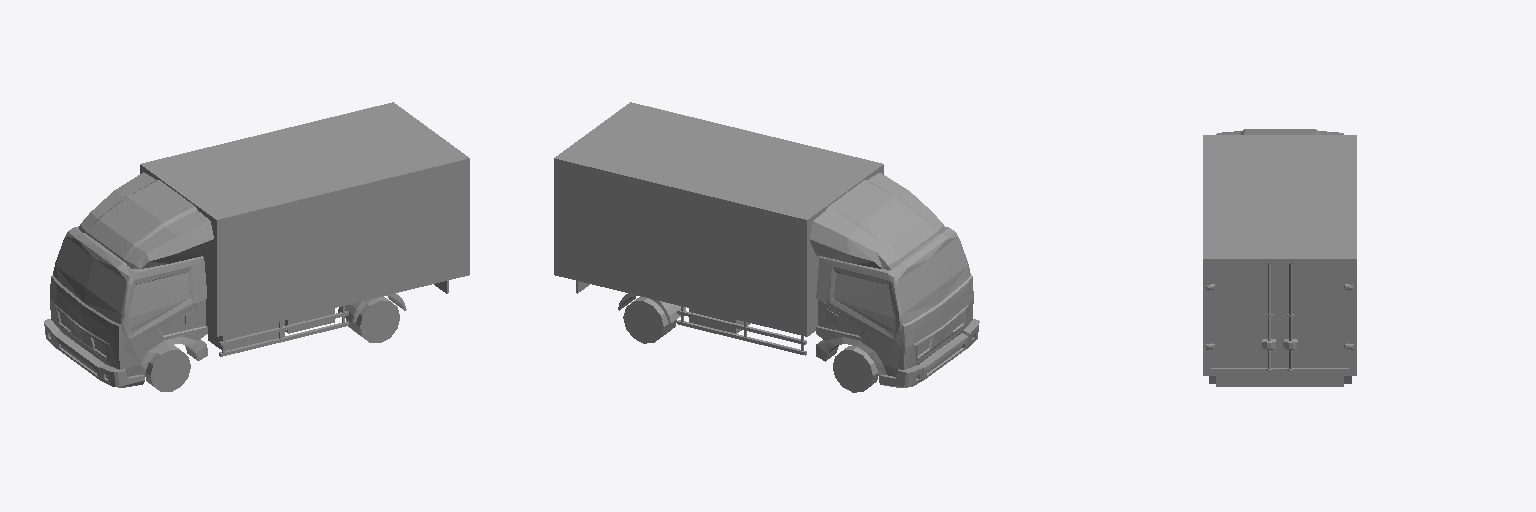
The model's file is Truck.obj.
3 views of the same model, side by side, from view 1: azimuth 30°, elevation 25°; view 2: azimuth 150°, elevation 25°; view 3: azimuth 270°, elevation 25° (orthographic).
Visible parts, largest first — view 1: TruckModel_BOX_METAL.034; view 2: TruckModel_BOX_METAL.034; view 3: TruckModel_BOX_METAL.034.
Boxes of the visible parts, box(x1,y1,x2,y2) form: TruckModel_BOX_METAL.034: box(44, 102, 469, 391); TruckModel_BOX_METAL.034: box(554, 102, 979, 392); TruckModel_BOX_METAL.034: box(1203, 129, 1356, 386).
Size of the model in its own units: 8.15 by 3.59 by 3.01.